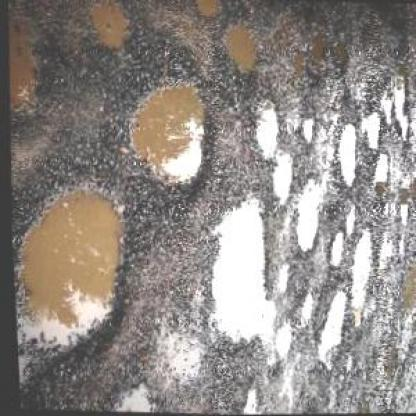pothole: (7, 182, 136, 370), (195, 190, 276, 356), (125, 79, 215, 191), (4, 7, 64, 146), (81, 0, 146, 65), (342, 225, 378, 330), (312, 287, 348, 369), (292, 177, 326, 258), (219, 21, 265, 80), (379, 69, 413, 146), (248, 98, 282, 164), (334, 126, 362, 192), (268, 152, 294, 210), (370, 147, 391, 202), (364, 110, 382, 151), (324, 234, 342, 269), (197, 0, 223, 22), (298, 118, 316, 144)
